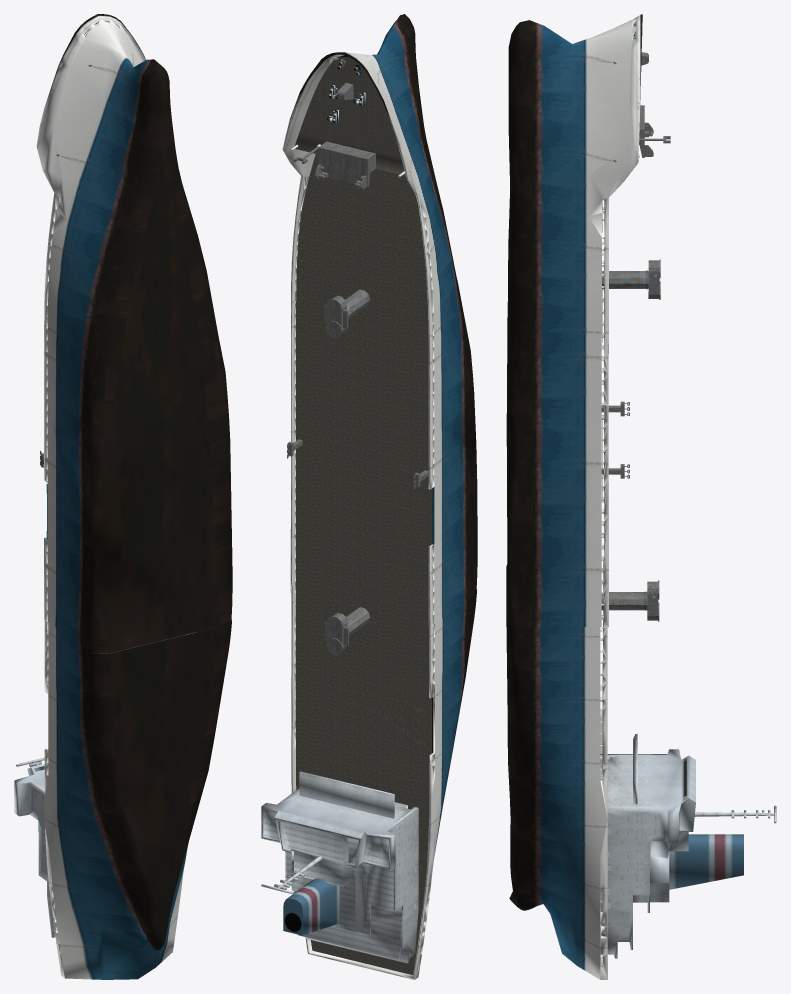
Rendered from CargoShip.dae.
3 views of the same model, side by side, from view 1: azimuth 30°, elevation 25°; view 2: azimuth 150°, elevation 25°; view 3: azimuth 270°, elevation 25° (orthographic).
Parts seen in each view (by area): view 1: Hull, Bridge; view 2: Floor, Hull, Bridge, Misc, Smoke, Holes; view 3: Hull, Bridge, Misc, Smoke.
Part boxes in pixels (x1=…): Hull: x1=36, y1=14, x2=232, y2=979; Bridge: x1=14, y1=757, x2=55, y2=937; Floor: x1=295, y1=56, x2=431, y2=974; Hull: x1=282, y1=14, x2=477, y2=979; Bridge: x1=261, y1=771, x2=418, y2=963; Misc: x1=287, y1=83, x2=428, y2=655; Smoke: x1=286, y1=878, x2=339, y2=935; Holes: x1=283, y1=898, x2=302, y2=935; Hull: x1=506, y1=14, x2=642, y2=979; Bridge: x1=600, y1=734, x2=776, y2=958; Misc: x1=601, y1=52, x2=670, y2=621; Smoke: x1=669, y1=834, x2=743, y2=889.
Size of the model in its own units: 34.74 by 57.37 by 220.
